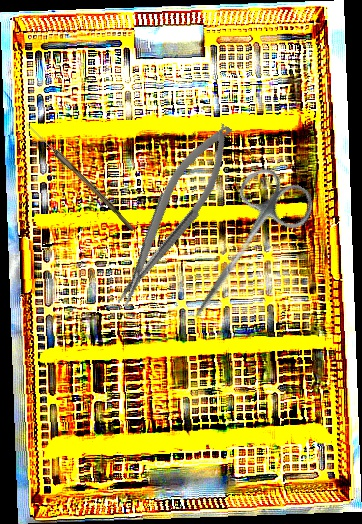Iris Scissors: (166, 158, 321, 340)
Needle Holder: (97, 115, 248, 314)
Surgical Spoon: (23, 121, 138, 232)
